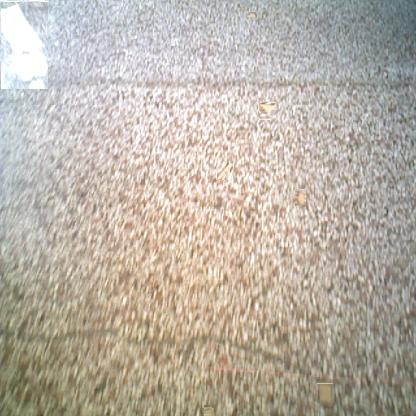dirty: (0, 1, 48, 89), (317, 383, 333, 406), (215, 160, 233, 180), (258, 102, 276, 120), (293, 191, 307, 205), (202, 406, 213, 416), (245, 12, 257, 20)
